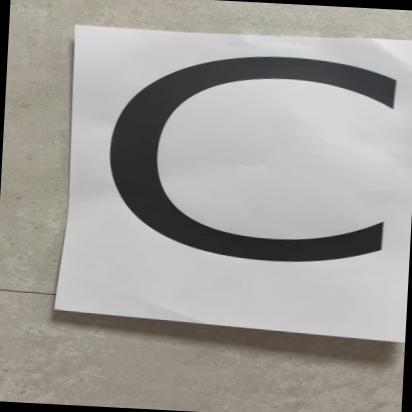seat: (65, 31, 412, 339)
